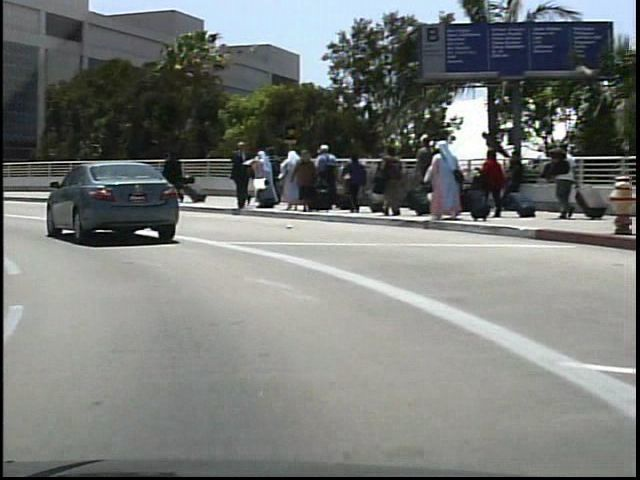person: (540, 138, 576, 224), (224, 138, 250, 214), (157, 147, 184, 212), (227, 146, 252, 210), (167, 153, 186, 196)
